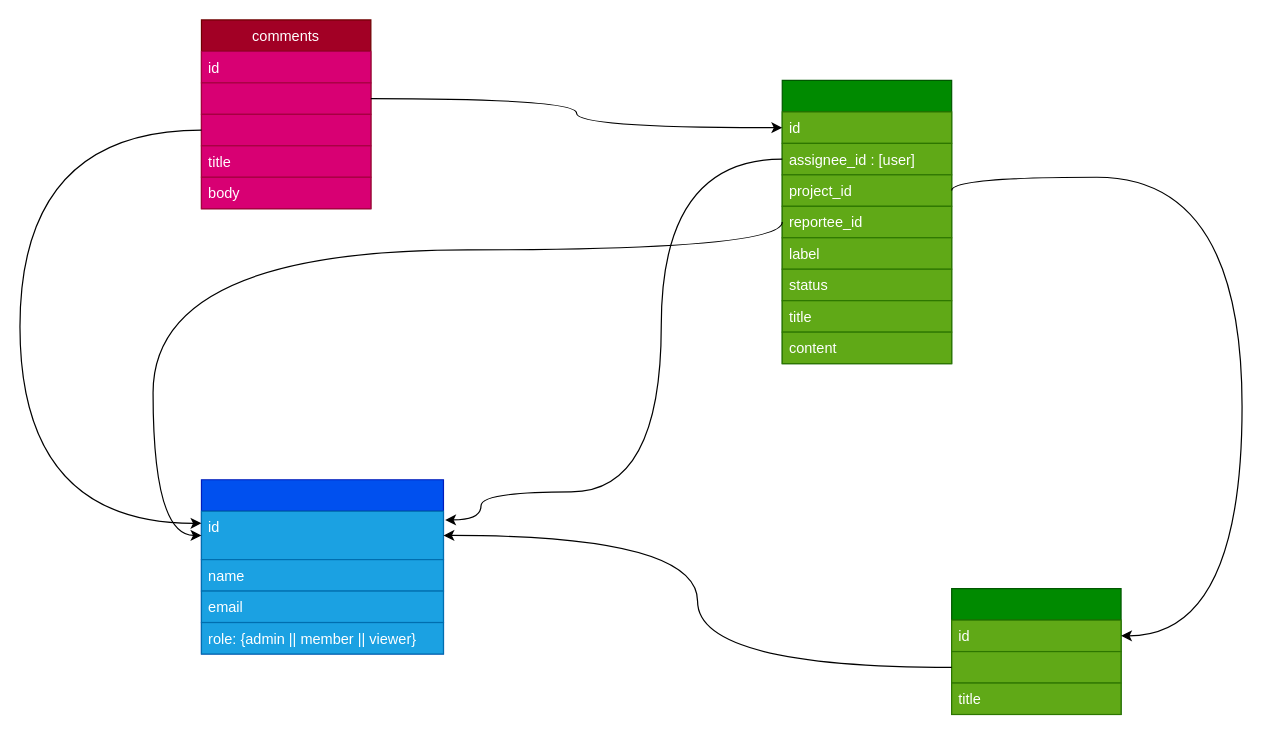
Some shapes in this 1262 by 734 pixel diagram are drawn without their labels. Each missing label, with the box of its shape:
commenter_id: (200, 113, 371, 146)
issue_id: (200, 82, 371, 114)
issues: (781, 79, 952, 364)
owner_id: (950, 650, 1121, 683)
projects: (950, 587, 1121, 715)
users: (200, 479, 443, 654)
